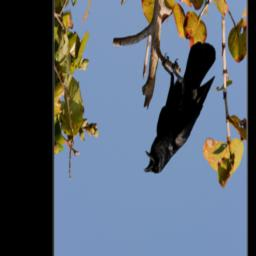Crow: (144, 43, 216, 176)
